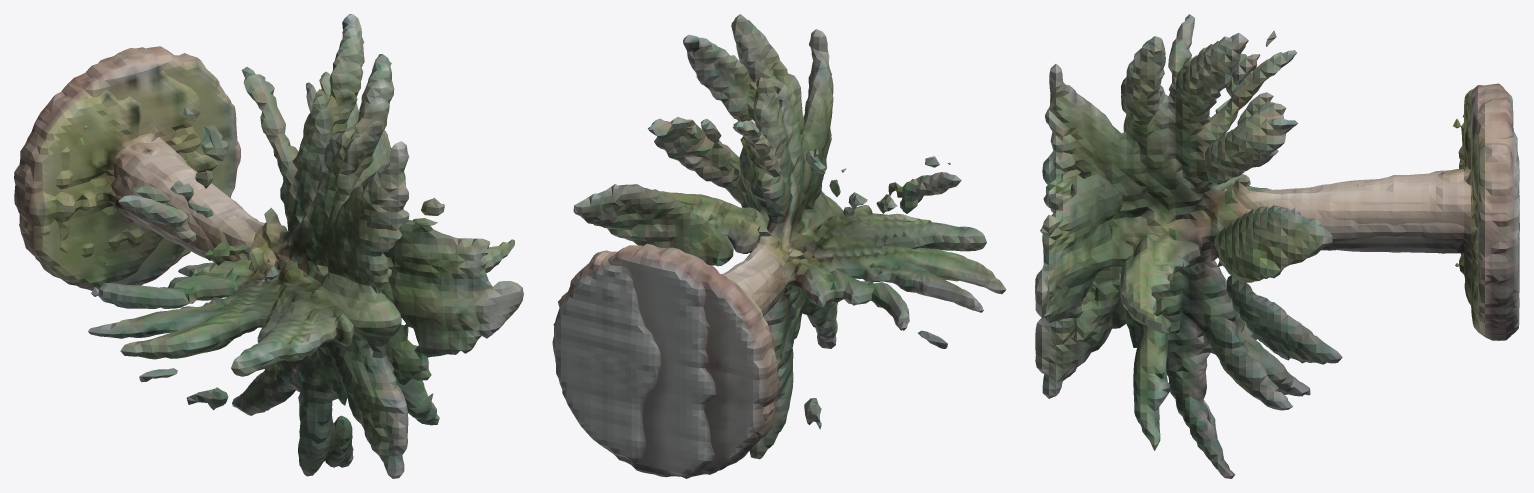
3 renders of one model, left to right at view 1: azimuth 30°, elevation 25°; view 2: azimuth 150°, elevation 25°; view 3: azimuth 270°, elevation 25°, orthographic. The views are drawn at different scales.
Parts seen in each view (by area): view 1: world; view 2: world; view 3: world.
Boxes of the visible parts, <box> form: world: <box>14,14,523,478</box>; world: <box>552,14,1006,478</box>; world: <box>1035,14,1519,478</box>.
Size of the model in its own units: 0.9398 by 0.9658 by 0.9441.
